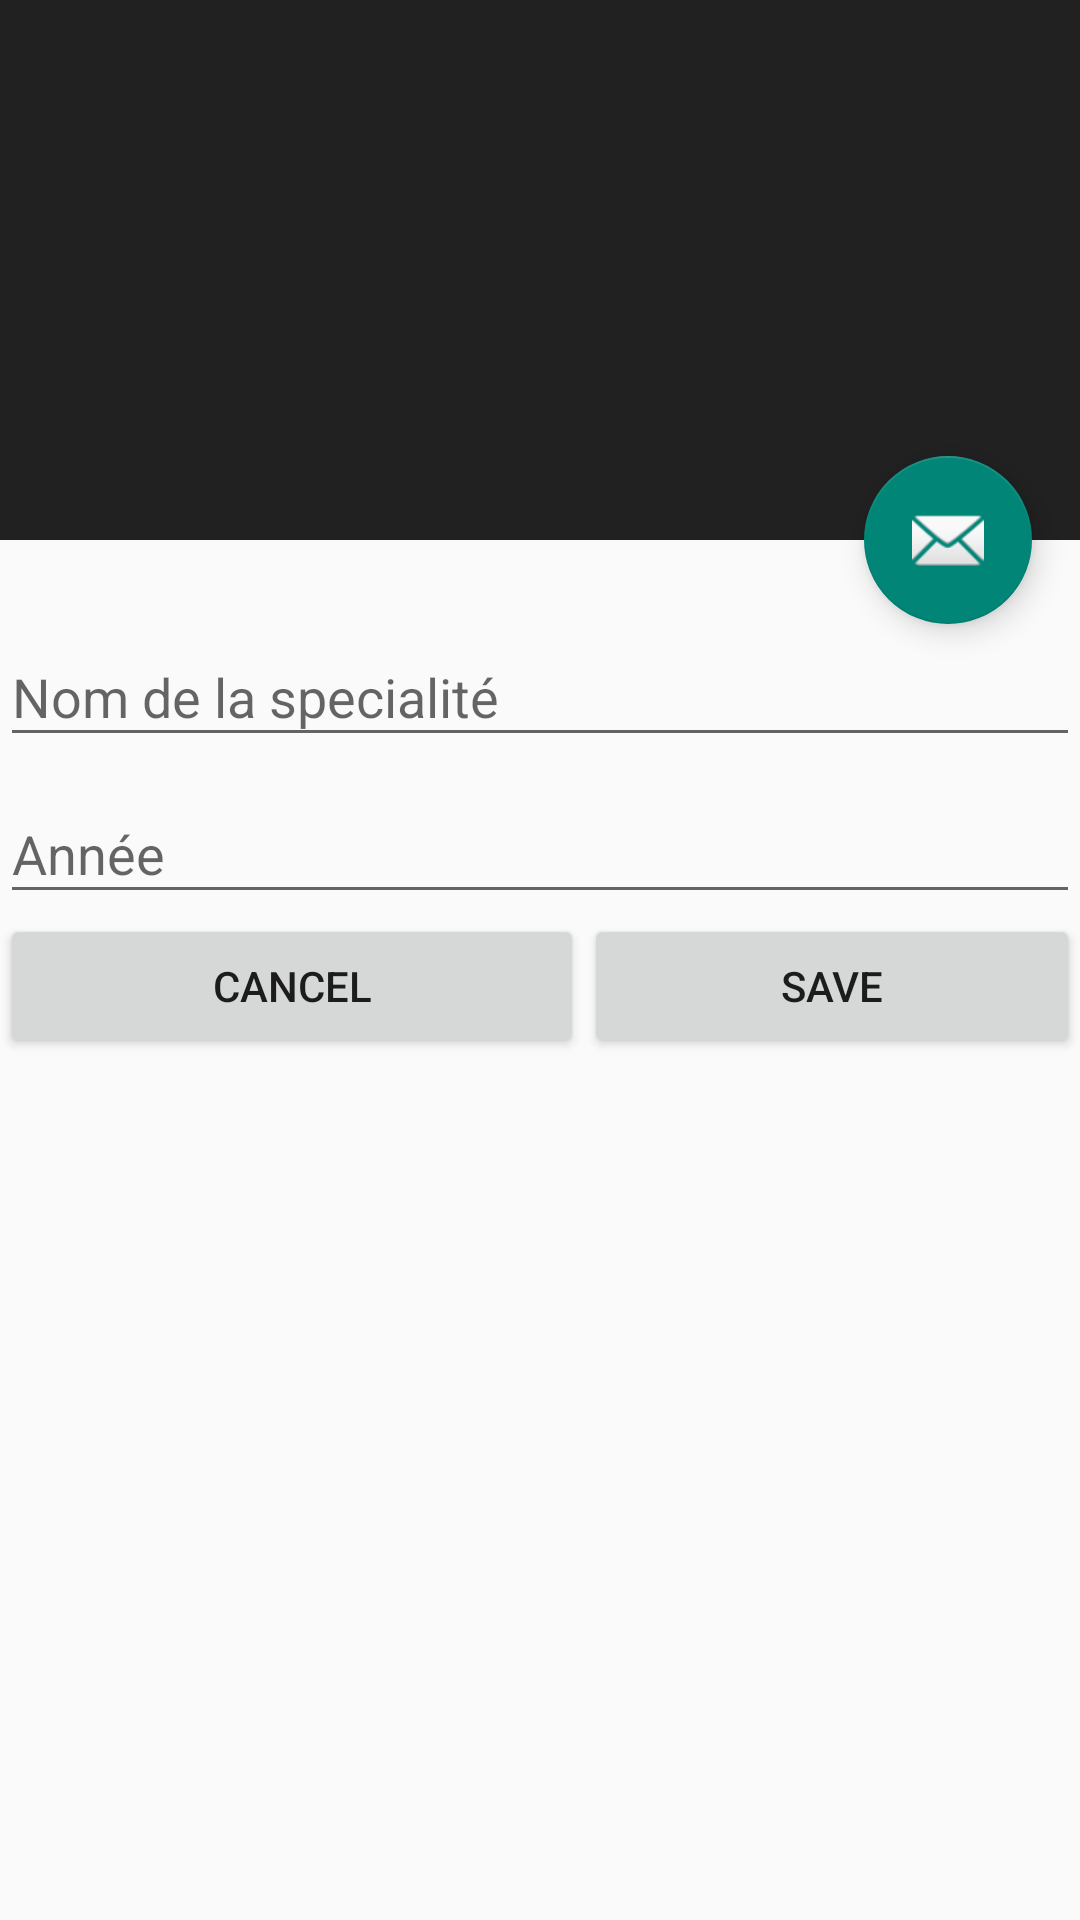

Icons on this 1080 × 1920 Android screen, each with the point to tap as point (x, y):
email: point (948, 540)
